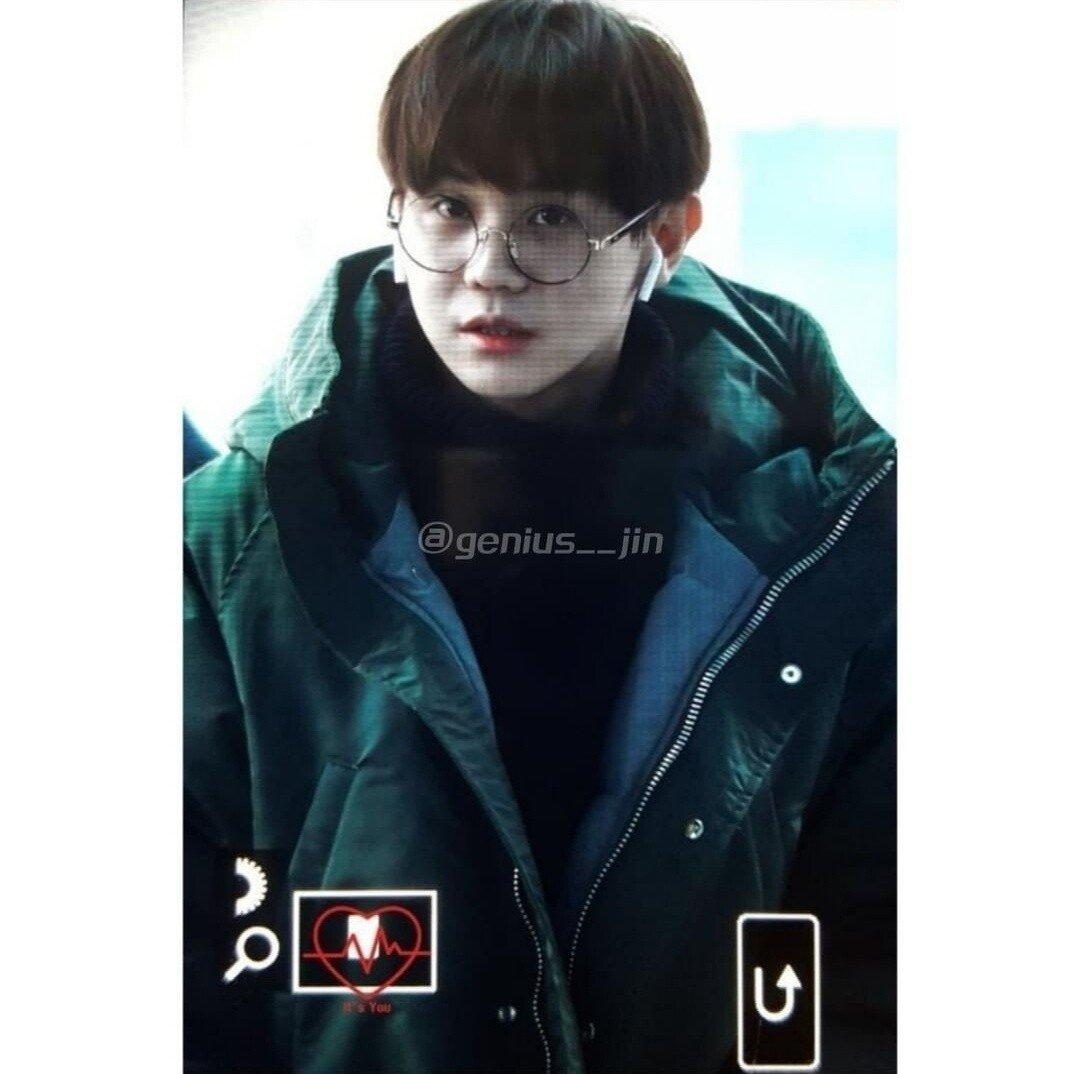earphone: (370, 218, 409, 292), (636, 234, 671, 304)
